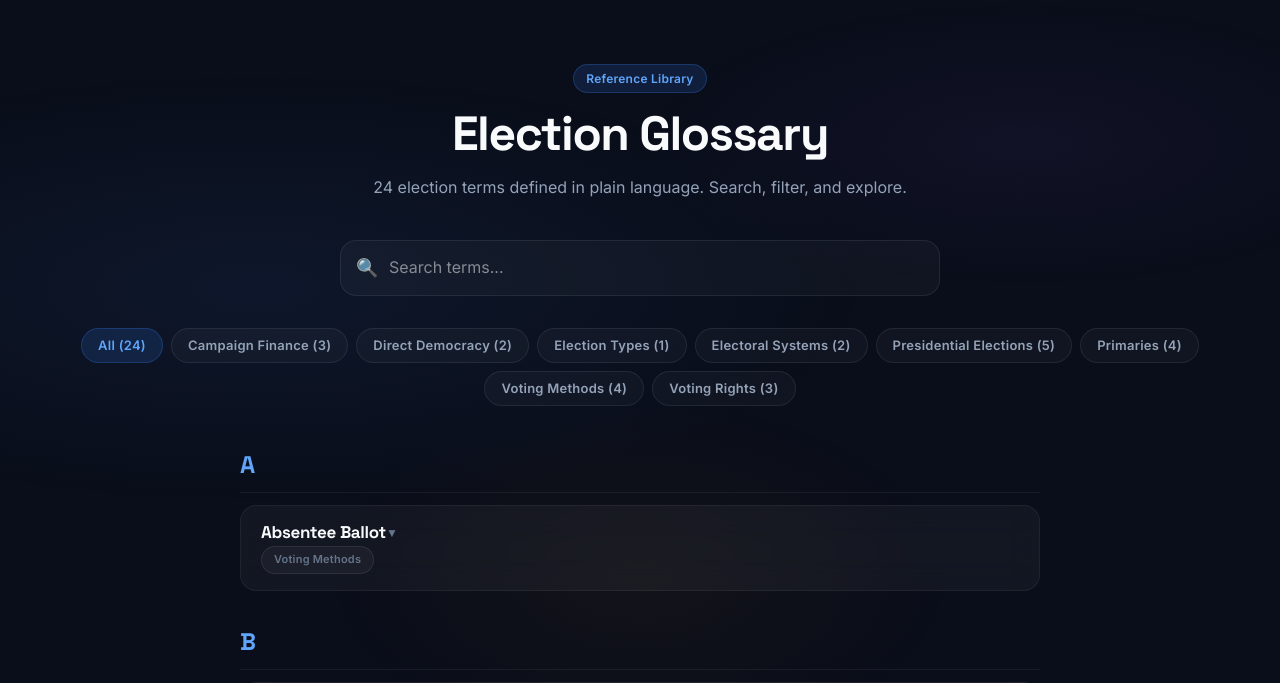
Test case: Glossary Page › shows no results message for non-matching search
Type "xyz123abc" into the search field named "Search glossary terms" at x=640, y=268, box x1=340 y1=240 x2=940 y2=296
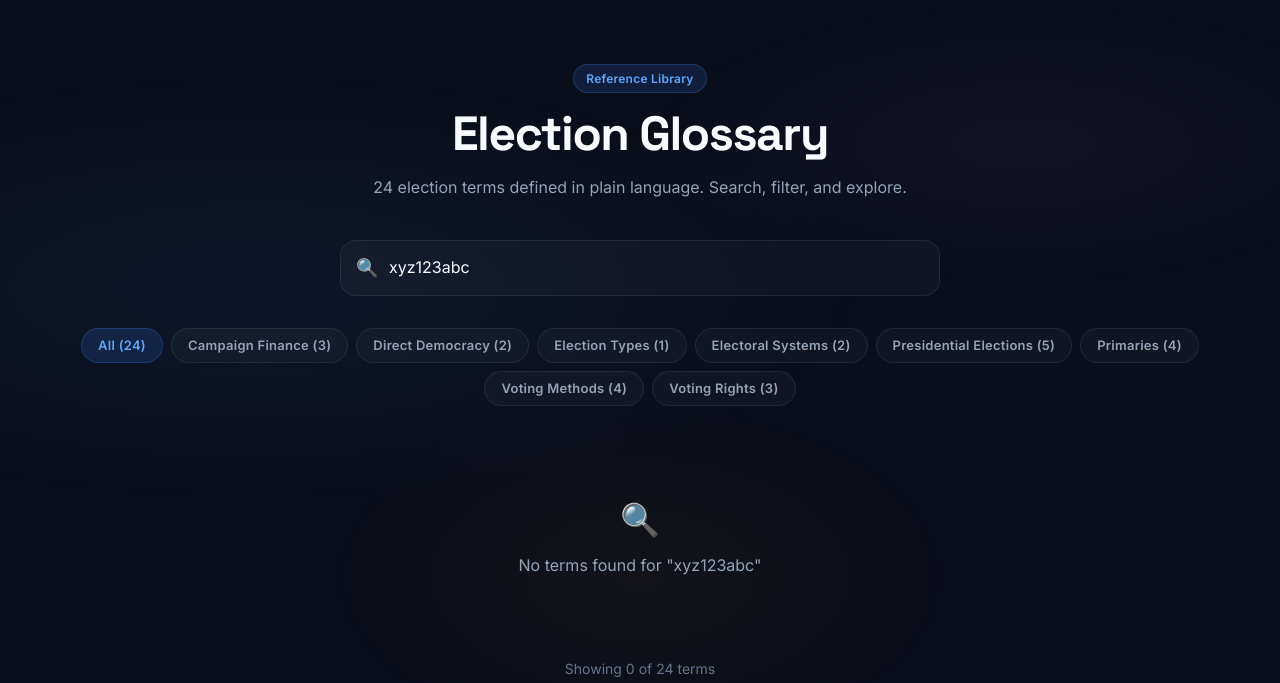
Now the text "No terms found for \"xyz123abc\"" is shown, box x1=518 y1=555 x2=761 y2=575
